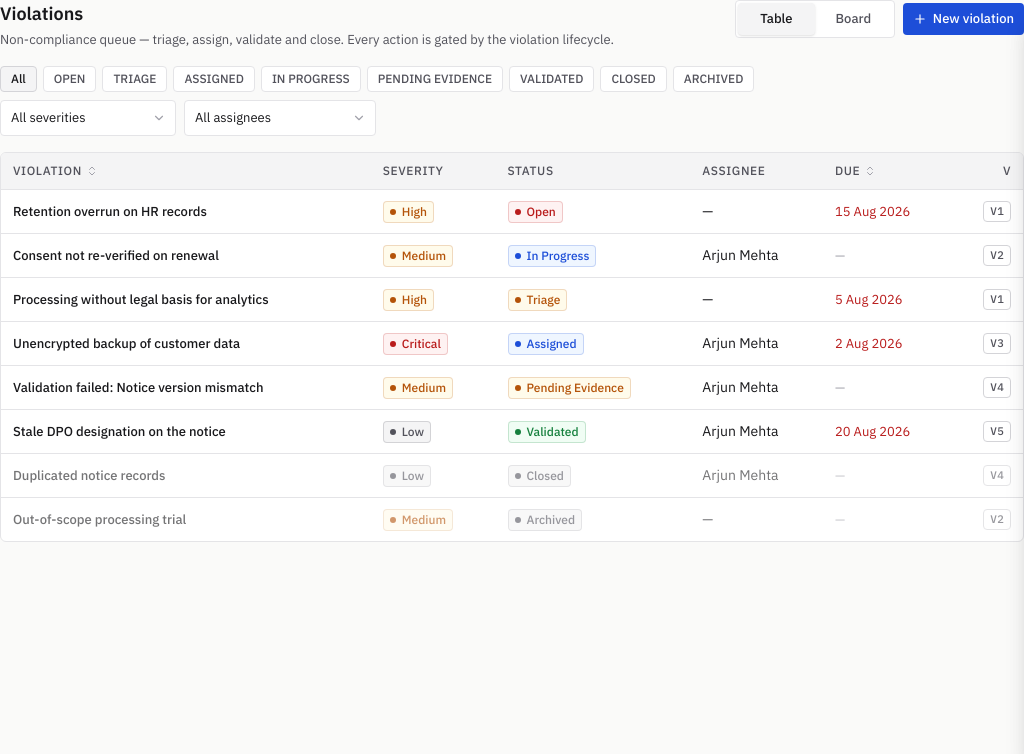
ViolationsView (§9.8) › closes a VALIDATED violation — summary is required and the record goes terminal
The image size is (1024, 754).
Click the text "Stale DPO designation on the notice" at (119,431), box left=13, top=423, right=226, bottom=440
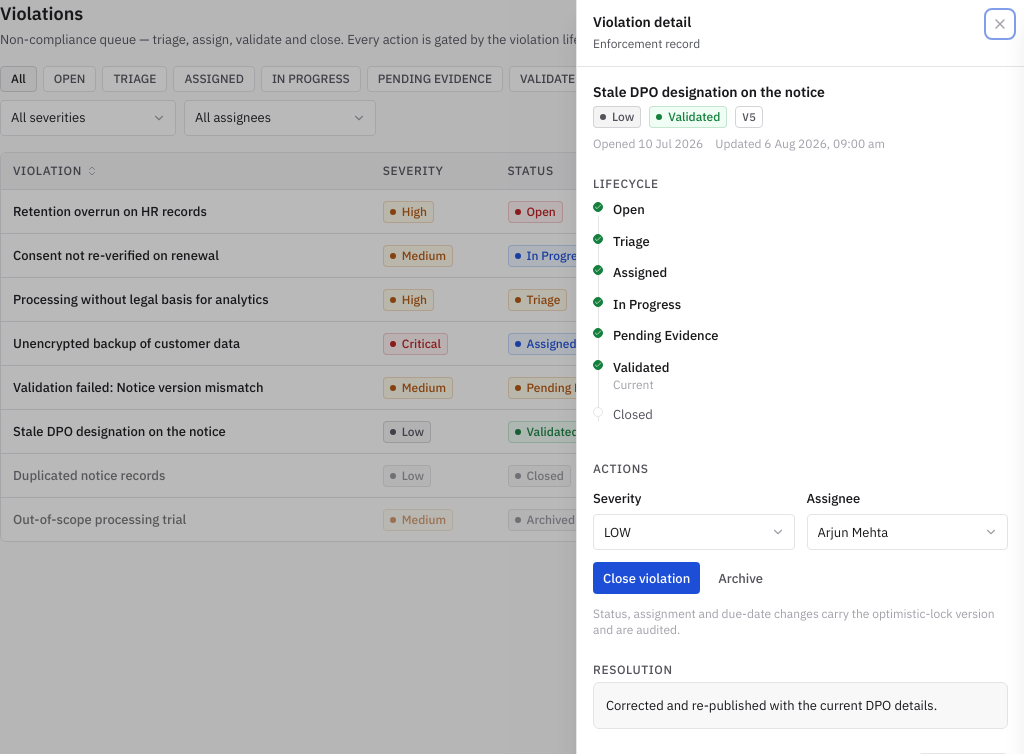
Click the button "Close violation" at (647,578), box left=593, top=562, right=700, bottom=594
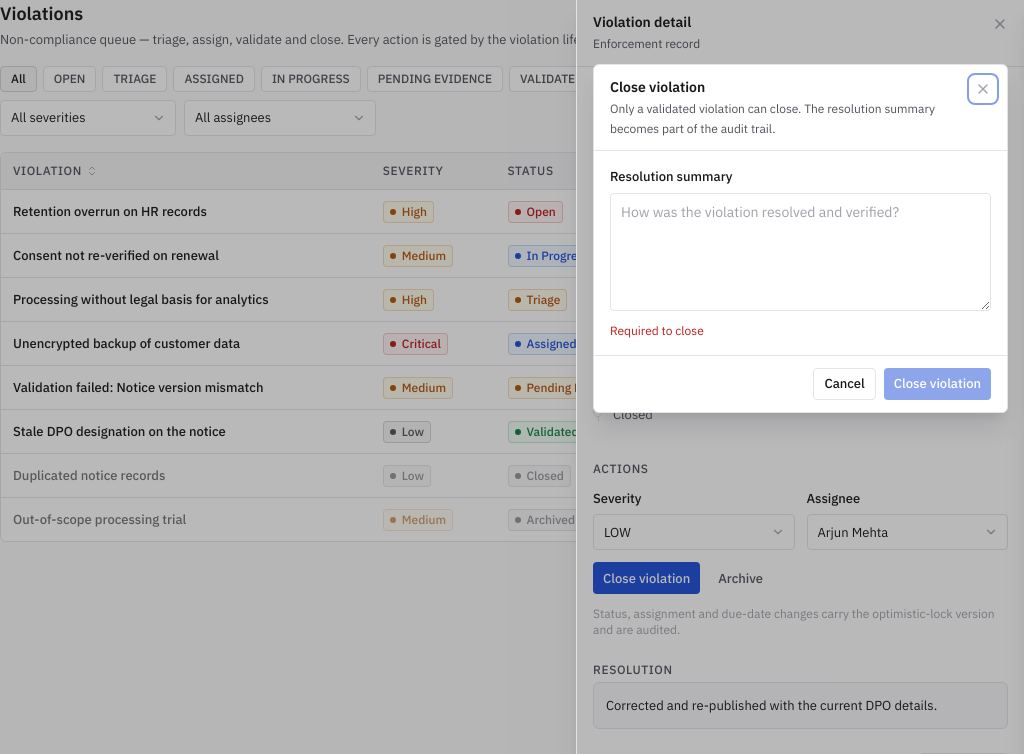
Check: the button "Close violation" is disabled, box left=884, top=368, right=991, bottom=400
Type "DPO details corrected and re-published." into the text box labelled "Resolution summary" at (800,252), box left=610, top=192, right=991, bottom=310
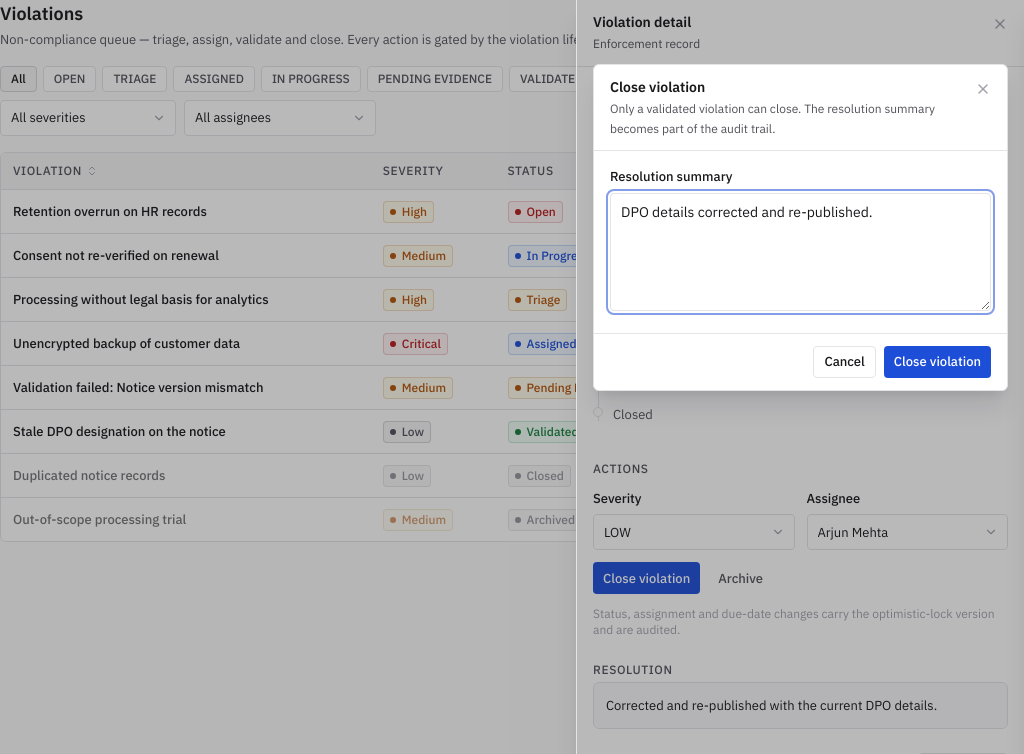
Click the button "Close violation" at (937,362), box left=884, top=346, right=991, bottom=378
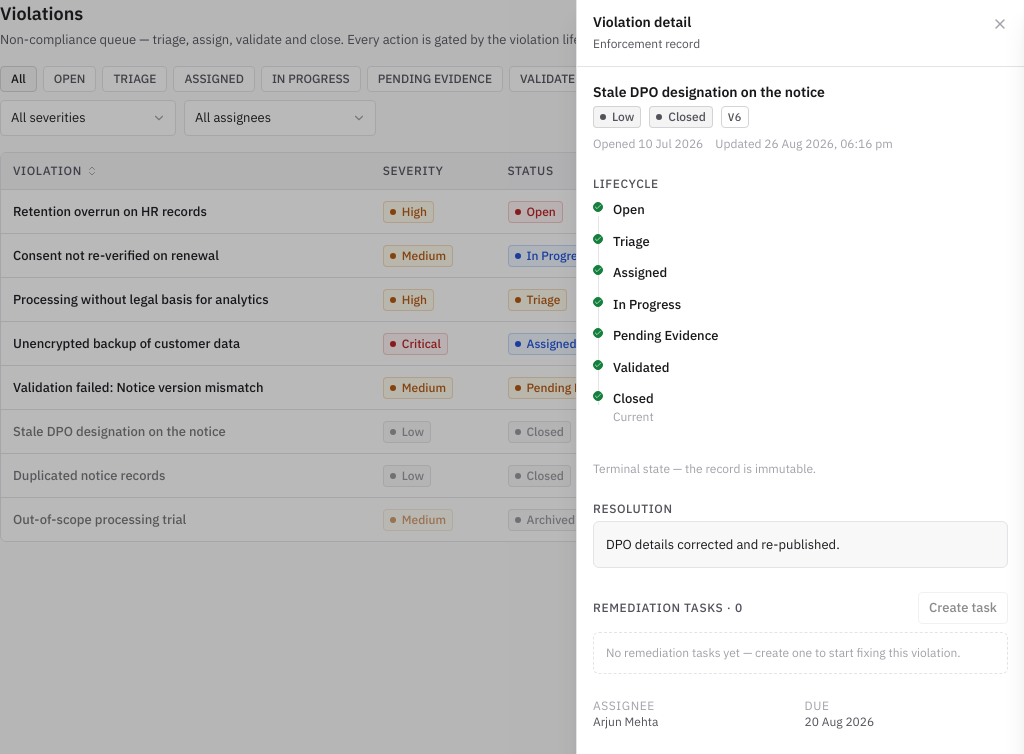
Check: the text "Terminal state — the record is immutable." is shown, box left=593, top=461, right=816, bottom=476
